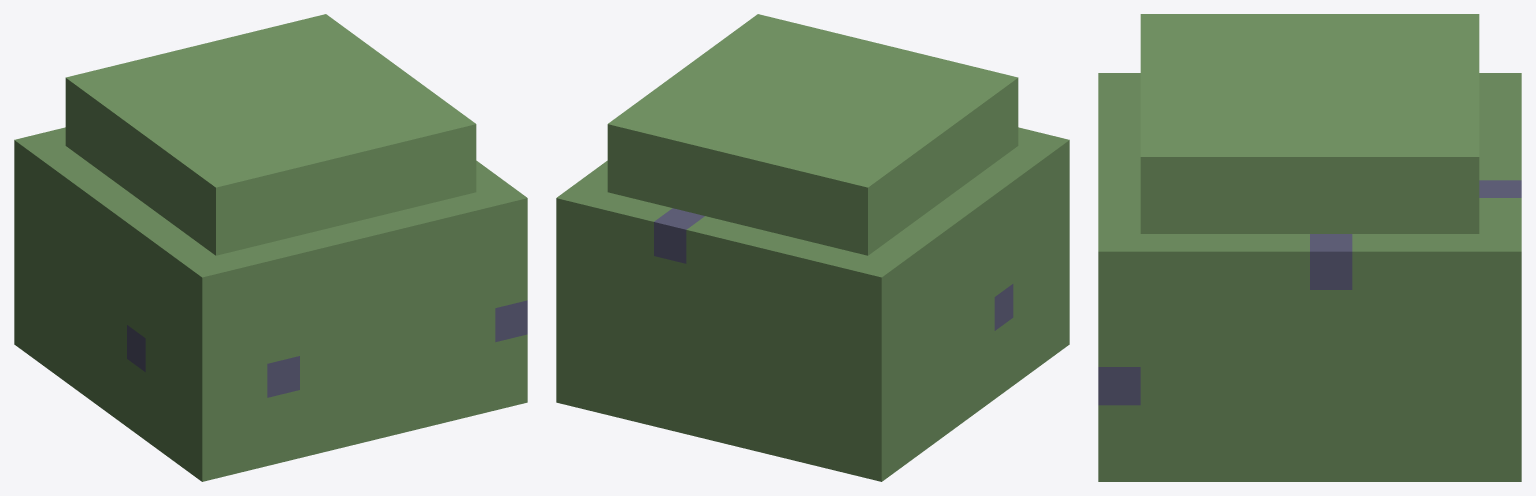
File: endrino_01.glb
3 views of the same model, side by side, from view 1: azimuth 30°, elevation 25°; view 2: azimuth 150°, elevation 25°; view 3: azimuth 270°, elevation 25° (orthographic). The views are drawn at different scales.
Parts seen in each view (by area): view 1: endrino_01; view 2: endrino_01; view 3: endrino_01.
Boxes of the visible parts, bbox=[...] form: endrino_01: bbox=[14, 14, 527, 481]; endrino_01: bbox=[556, 14, 1069, 481]; endrino_01: bbox=[1098, 14, 1521, 481].
Size of the model in its own units: 1 by 0.8 by 1.
